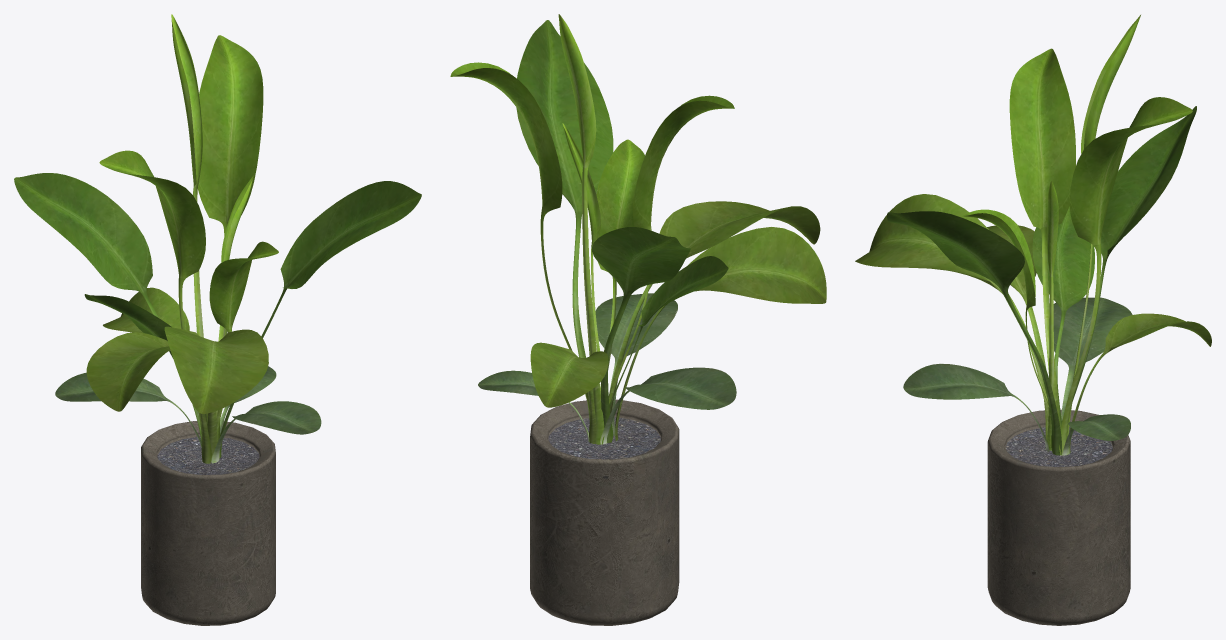
Rendered from rhyzome_plant.glb.
3 views of the same model, side by side, from view 1: azimuth 30°, elevation 25°; view 2: azimuth 150°, elevation 25°; view 3: azimuth 270°, elevation 25° (orthographic). The views are drawn at different scales.
Visible parts, largest first — view 1: plant_lambert2_0, concrete_pot_lambert3_0; view 2: plant_lambert2_0, concrete_pot_lambert3_0; view 3: plant_lambert2_0, concrete_pot_lambert3_0.
Boxes of the visible parts, x1,y1,x2,y2 form: plant_lambert2_0: (14, 14, 421, 463); concrete_pot_lambert3_0: (141, 421, 275, 625); plant_lambert2_0: (450, 14, 826, 444); concrete_pot_lambert3_0: (530, 399, 679, 625); plant_lambert2_0: (855, 15, 1211, 455); concrete_pot_lambert3_0: (987, 409, 1130, 625).
Size of the model in its own units: 0.9758 by 1.81 by 0.9984.
2 materials, 2 textured.
